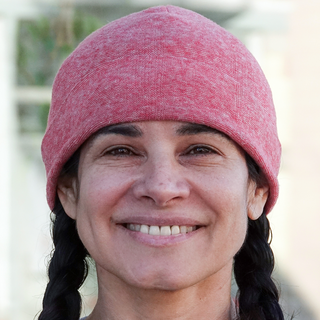eye: (177, 140, 226, 164), (96, 141, 144, 163)
